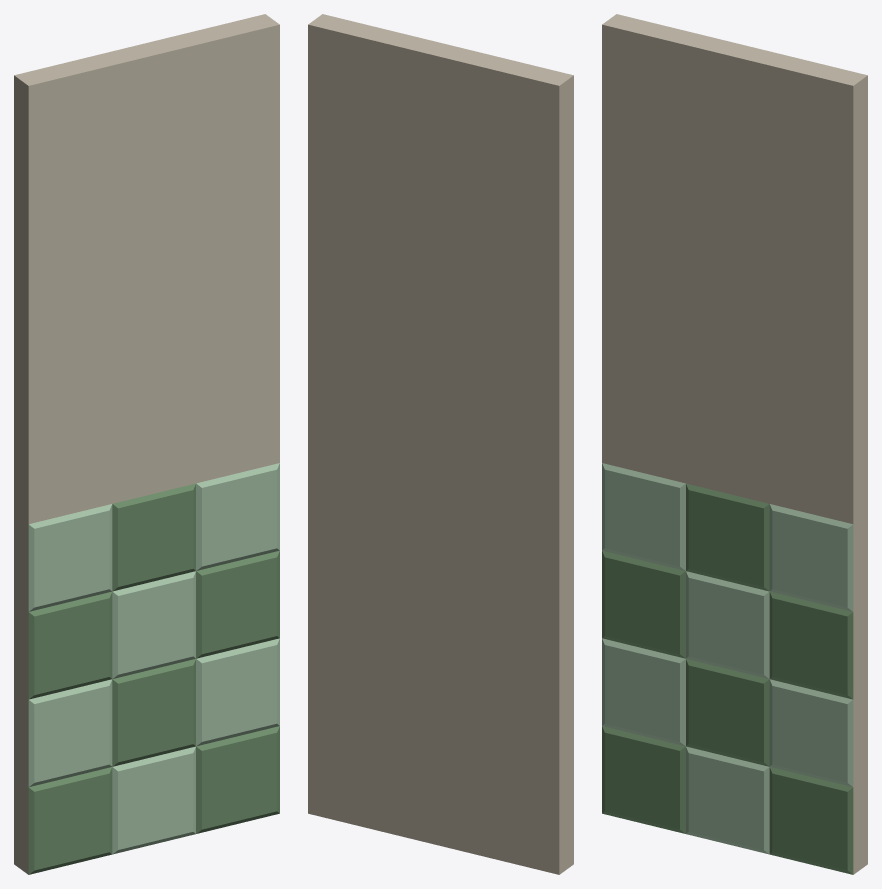
Rendered from Mesh_WallHalfCeramic_M2.fbx.
3 renders of one model, left to right at view 1: azimuth 30°, elevation 25°; view 2: azimuth 150°, elevation 25°; view 3: azimuth 330°, elevation 25°, orthographic.
Visible parts, largest first — view 1: Mesh_WallHalfCeramic_M2; view 2: Mesh_WallHalfCeramic_M2; view 3: Mesh_WallHalfCeramic_M2.
Boxes of the visible parts, box(x1,y1,x2,y2) form: Mesh_WallHalfCeramic_M2: box(14, 14, 279, 874); Mesh_WallHalfCeramic_M2: box(308, 14, 573, 874); Mesh_WallHalfCeramic_M2: box(602, 14, 867, 874).
Bounding box in the file's own units: 1 × 3 × 0.1104.
